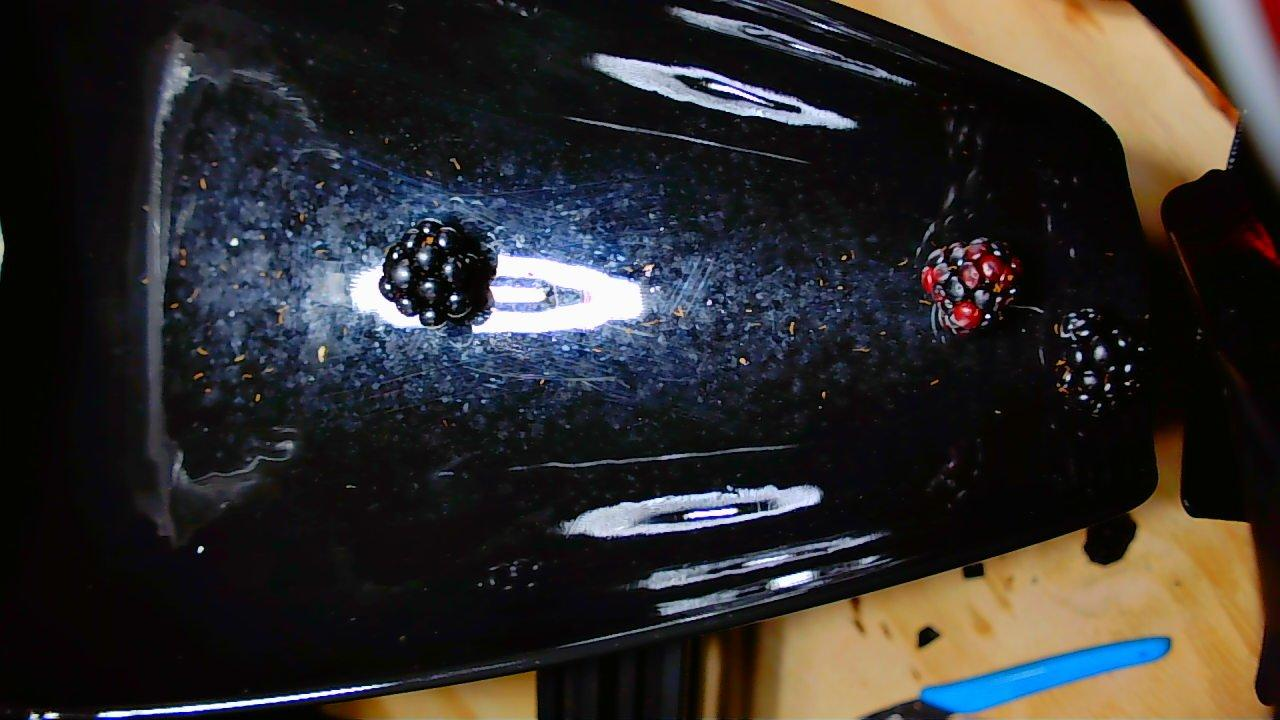berry: (376, 218, 495, 327), (1054, 308, 1145, 415), (921, 238, 1021, 334)
